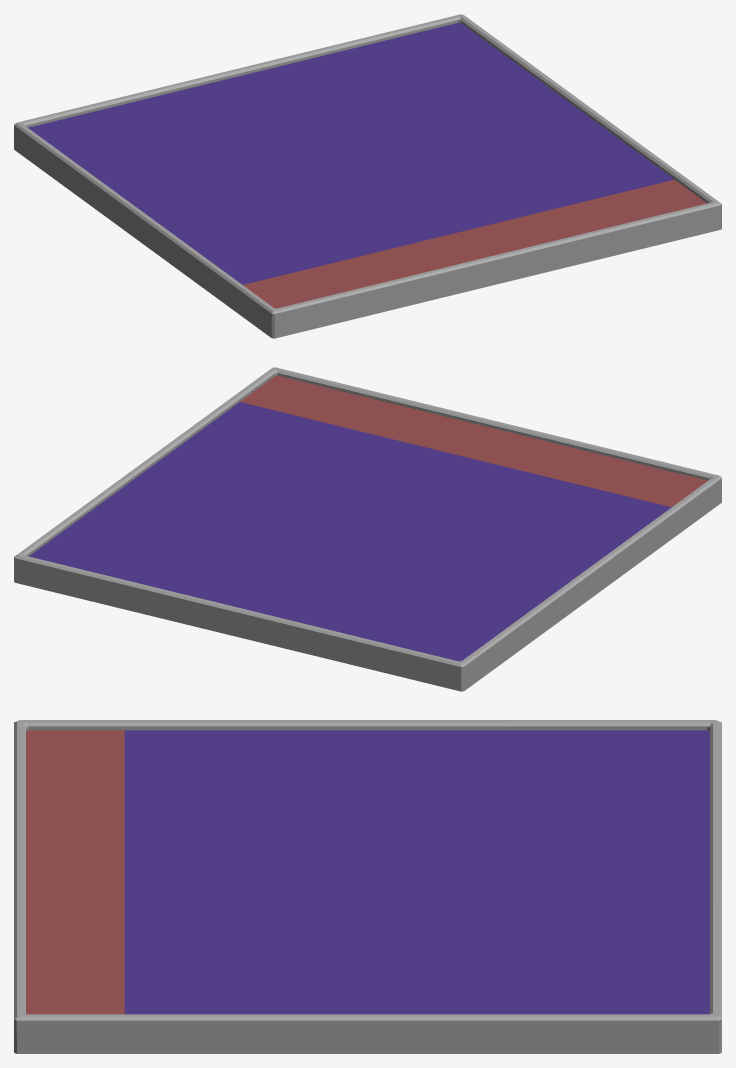
Rendered from Monitor_3.fbx.
The picture shows the model from 3 angles, top to bottom: view 1: azimuth 30°, elevation 25°; view 2: azimuth 150°, elevation 25°; view 3: azimuth 270°, elevation 25°; orthographic projection. The views are drawn at different scales.
Visible parts, largest first — view 1: Monitor_6; view 2: Monitor_6; view 3: Monitor_6.
Part boxes in pixels (box(x1,y1,x2,y2)): Monitor_6: box(14, 14, 721, 338); Monitor_6: box(14, 367, 721, 691); Monitor_6: box(14, 720, 721, 1053).
Size of the model in its own units: 17.85 by 1 by 17.85.
